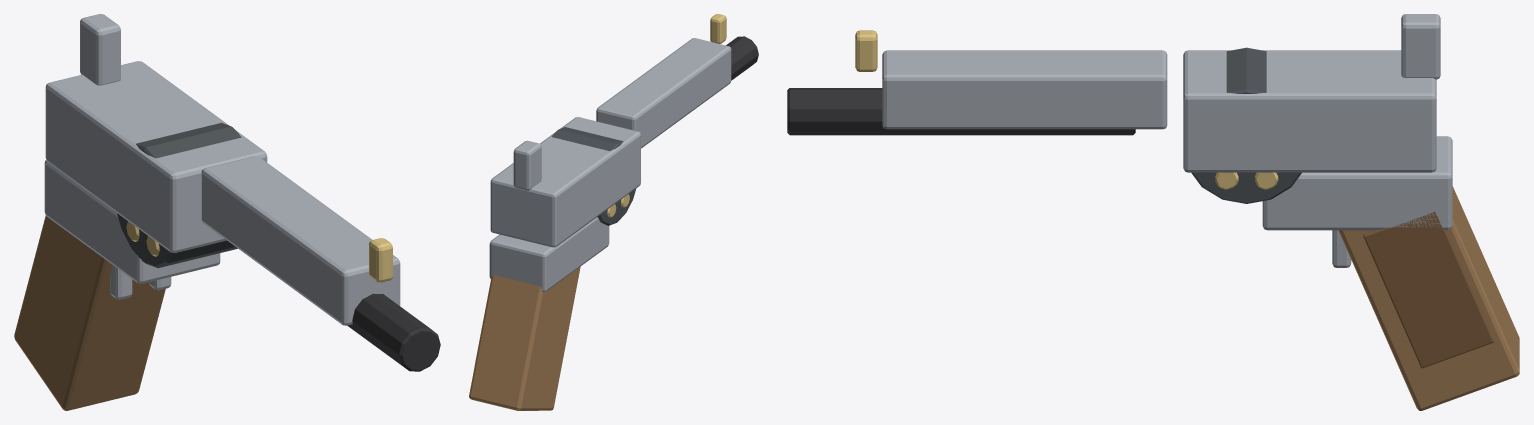
The model's file is revolver.glb.
The picture shows the model from 3 angles, left to right: view 1: azimuth 30°, elevation 25°; view 2: azimuth 150°, elevation 25°; view 3: azimuth 270°, elevation 25°; orthographic projection. The views are drawn at different scales.
Visible parts, largest first — view 1: Frame_Top, Grip, Barrel_Shroud, Frame_Bot, Barrel, Cylinder, Hammer, Front_Sight, Guard_L; view 2: Frame_Top, Grip, Barrel_Shroud, Frame_Bot, Cylinder, Hammer, Barrel, Front_Sight; view 3: Frame_Top, Barrel_Shroud, Grip_Plate, Grip, Frame_Bot, Barrel, Cylinder, Hammer, Front_Sight.
Part boxes in pixels (left/top/right/bottom): Frame_Top: left=45, top=61, right=267, bottom=252; Grip: left=14, top=215, right=165, bottom=410; Barrel_Shroud: left=201, top=156, right=400, bottom=325; Frame_Bot: left=44, top=160, right=220, bottom=283; Barrel: left=347, top=293, right=440, bottom=371; Cylinder: left=117, top=122, right=241, bottom=268; Hammer: left=80, top=14, right=120, bottom=85; Front_Sight: left=369, top=238, right=392, bottom=282; Guard_L: left=110, top=265, right=132, bottom=299; Frame_Top: left=490, top=117, right=640, bottom=247; Grip: left=469, top=267, right=580, bottom=410; Barrel_Shroud: left=596, top=38, right=731, bottom=148; Frame_Bot: left=489, top=217, right=609, bottom=292; Cylinder: left=552, top=127, right=636, bottom=225; Hammer: left=513, top=140, right=541, bottom=190; Barrel: left=726, top=36, right=758, bottom=80; Front_Sight: left=710, top=14, right=726, bottom=43; Frame_Top: left=1183, top=50, right=1436, bottom=172; Barrel_Shroud: left=882, top=50, right=1167, bottom=129; Grip_Plate: left=1363, top=212, right=1494, bottom=368; Grip: left=1338, top=186, right=1519, bottom=410; Frame_Bot: left=1262, top=136, right=1452, bottom=230; Barrel: left=787, top=88, right=1135, bottom=135; Cylinder: left=1191, top=47, right=1301, bottom=203; Hammer: left=1401, top=14, right=1440, bottom=79; Front_Sight: left=855, top=30, right=877, bottom=71.
Size of the model in its own units: 0.07 by 0.2619 by 0.4624.
